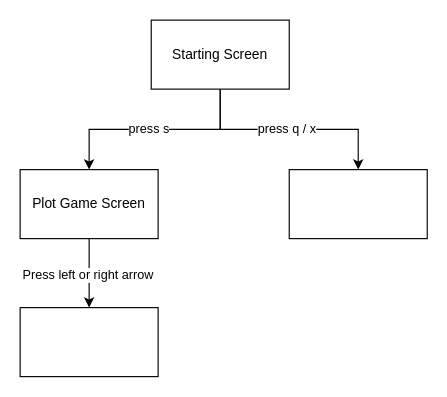
This 447x397 diagram has some shape labels left out. Each missing label, with the centre of its shape:
"Quit game" belongs at point (357, 203).
"Start the game" belongs at point (88, 341).
